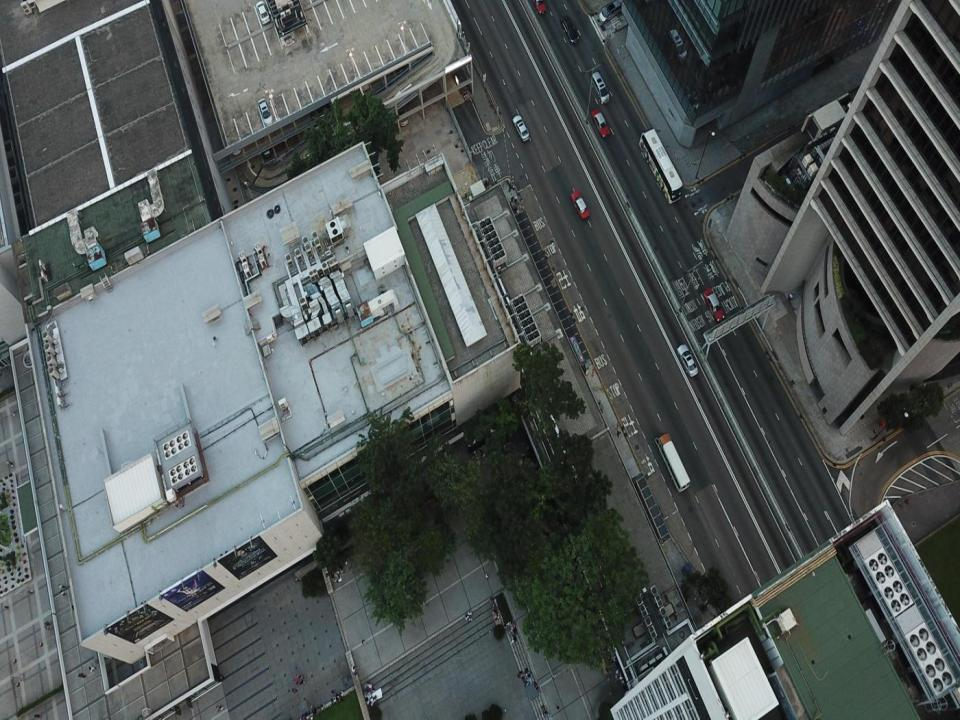bus: (638, 127, 683, 204), (654, 432, 690, 492)
car: (676, 344, 698, 376), (704, 288, 724, 321), (570, 190, 590, 219), (591, 109, 610, 138), (560, 15, 578, 44), (512, 115, 530, 141), (258, 97, 271, 123), (255, 1, 269, 23), (230, 134, 241, 156), (397, 105, 407, 126), (533, 0, 546, 14), (262, 137, 271, 156), (312, 112, 322, 129), (360, 73, 368, 91)
van: (591, 72, 610, 104), (598, 0, 621, 23)
